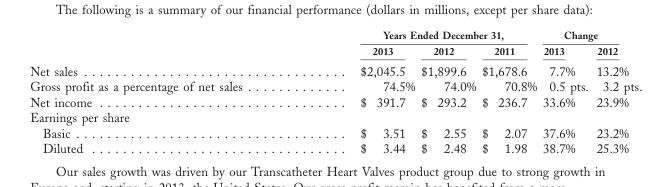table: (29, 28, 641, 155)
table column: (29, 28, 301, 155), (301, 28, 417, 155), (417, 28, 478, 155), (478, 28, 539, 155), (539, 28, 591, 155), (591, 28, 625, 155), (625, 28, 641, 155)
table column header: (29, 28, 641, 93)
table projected row header: (29, 109, 641, 124)
table row: (29, 42, 641, 93), (29, 93, 641, 109), (29, 124, 641, 140), (29, 109, 641, 124), (29, 140, 641, 155), (29, 28, 641, 42)
table spanning cell: (29, 28, 301, 93), (301, 28, 539, 42), (539, 28, 625, 42), (625, 28, 641, 93)
